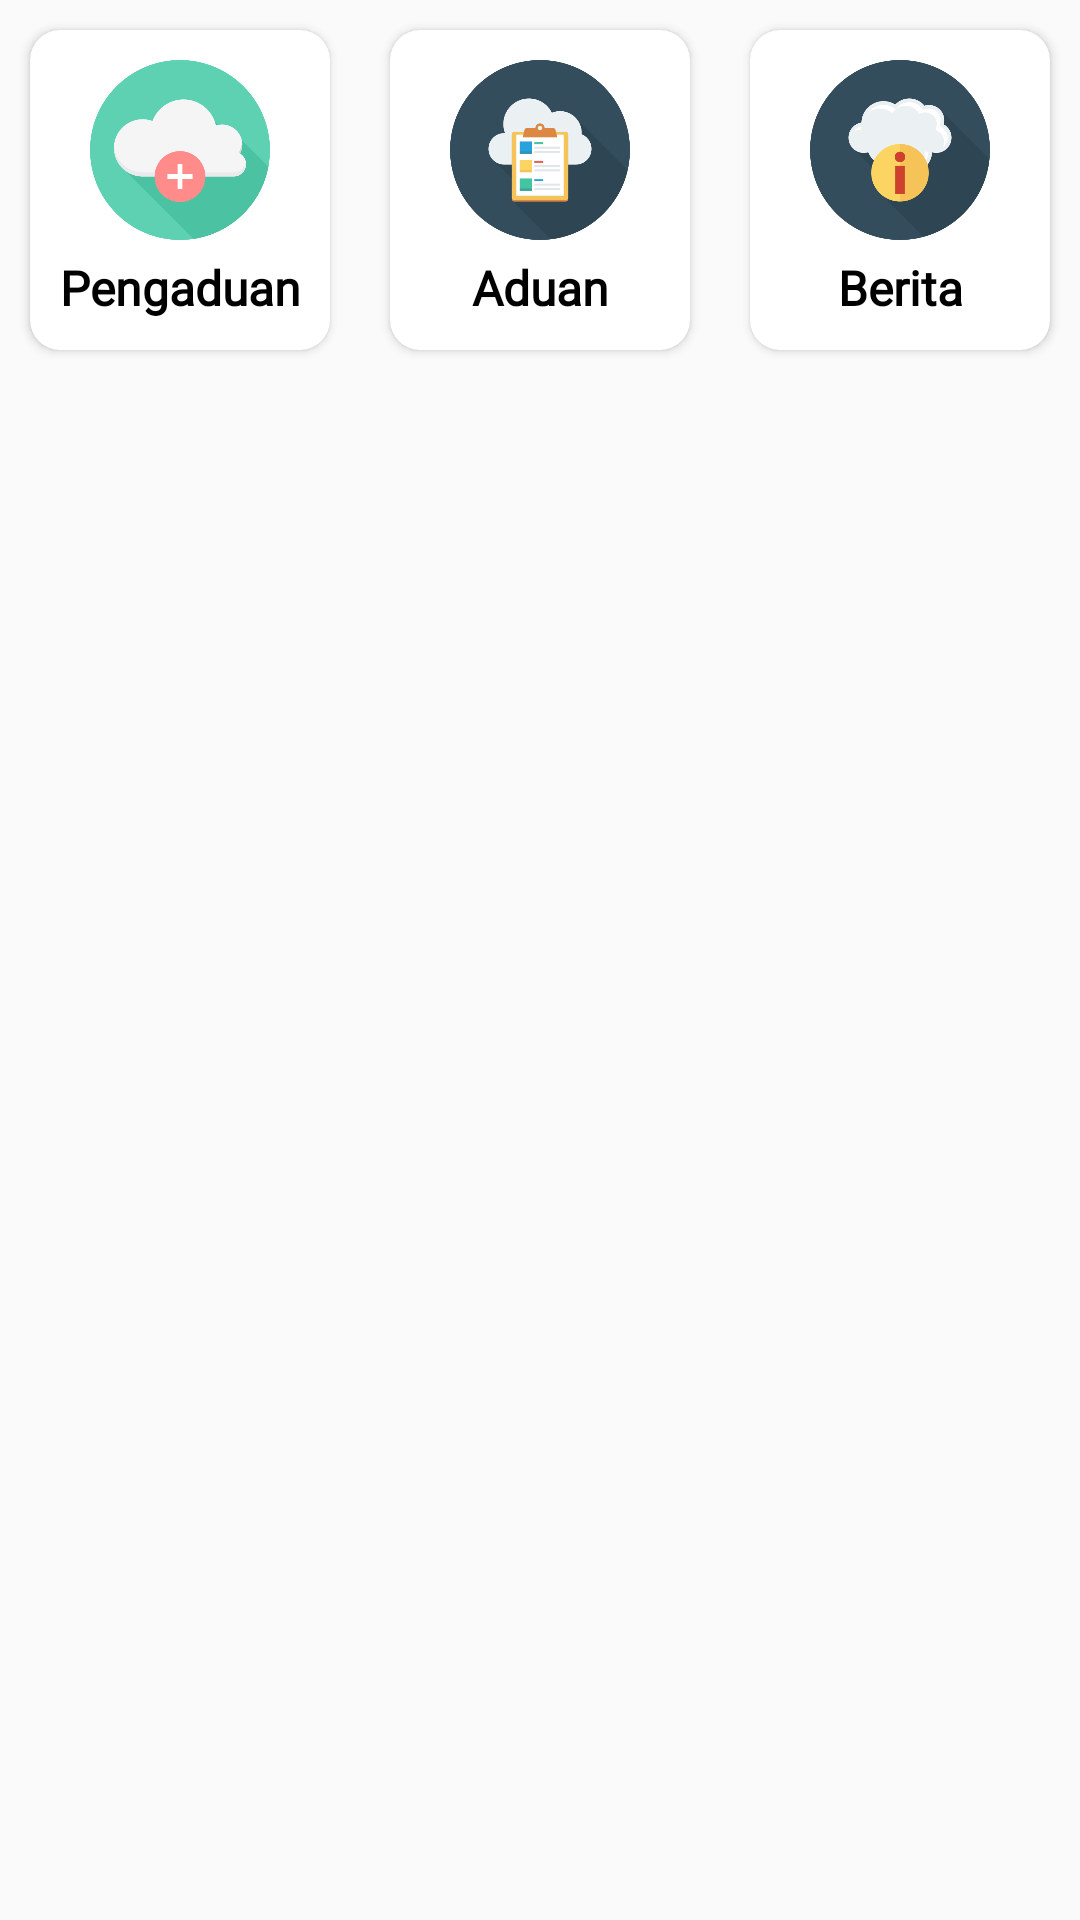

Named icons in this screenshot (1080x1920) and their centers, point (x, y):
checklist: point (540, 150)
info: point (900, 150)
plus: point (180, 150)
